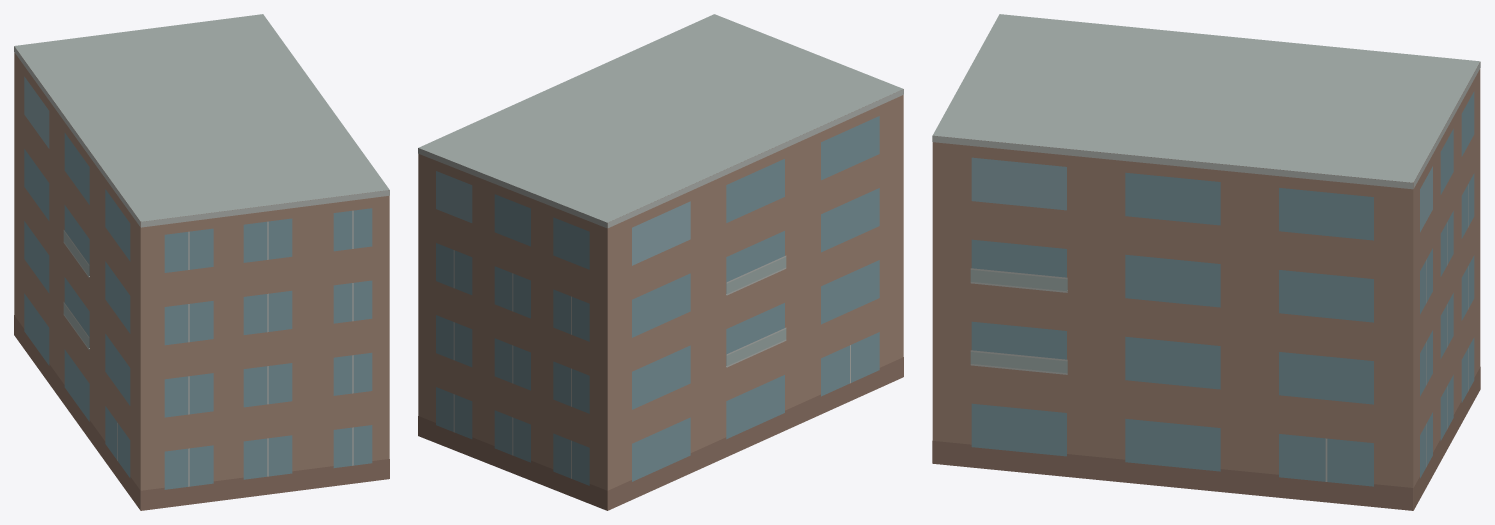
File: residential-7f825d93-bfc4-4083-b49f-31fd99b70599.glb
3 renders of one model, left to right at view 1: azimuth 30°, elevation 25°; view 2: azimuth 150°, elevation 25°; view 3: azimuth 270°, elevation 25°, orthographic. The views are drawn at different scales.
Parts seen in each view (by area): view 1: residential-7f825d93-bfc4-4083-b49f-31fd99b70599.tmp; view 2: residential-7f825d93-bfc4-4083-b49f-31fd99b70599.tmp; view 3: residential-7f825d93-bfc4-4083-b49f-31fd99b70599.tmp.
Boxes of the visible parts, x1,y1,x2,y2 form: residential-7f825d93-bfc4-4083-b49f-31fd99b70599.tmp: (14, 14, 389, 510); residential-7f825d93-bfc4-4083-b49f-31fd99b70599.tmp: (418, 14, 903, 510); residential-7f825d93-bfc4-4083-b49f-31fd99b70599.tmp: (932, 14, 1480, 510).
Size of the model in its own units: 13.47 by 12.2 by 18.48.
